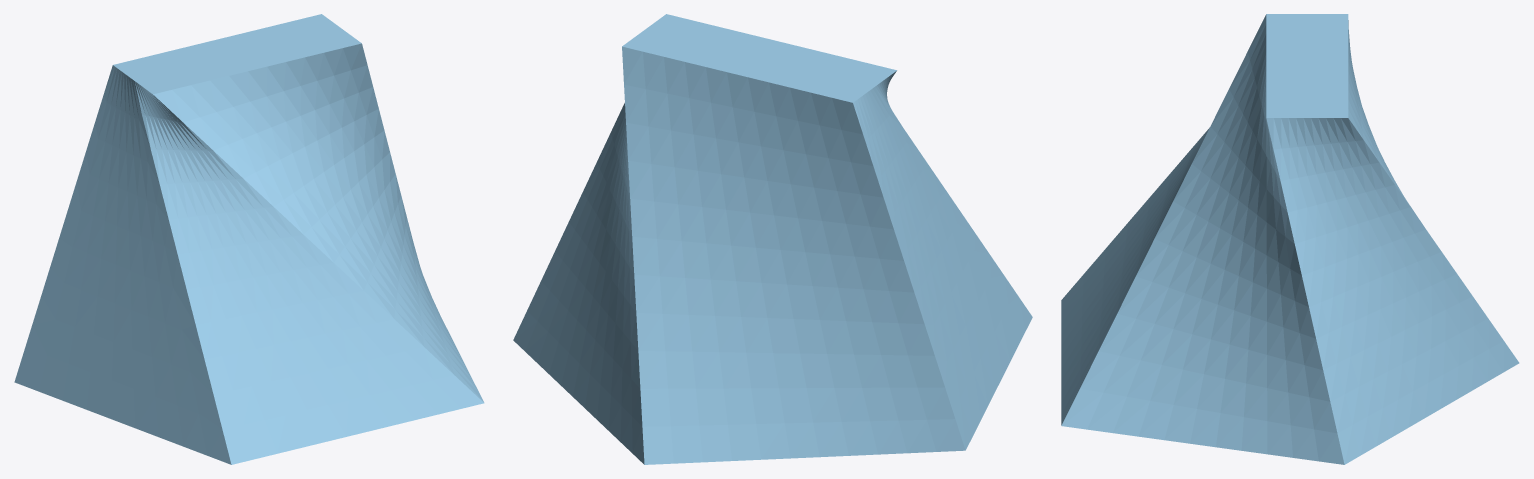
The model's file is NonSymTest.dae.
3 renders of one model, left to right at view 1: azimuth 30°, elevation 25°; view 2: azimuth 150°, elevation 25°; view 3: azimuth 270°, elevation 25°, orthographic. The views are drawn at different scales.
Visible parts, largest first — view 1: 5c7fe8f7d39c101b6040b5b8; view 2: 5c7fe8f7d39c101b6040b5b8; view 3: 5c7fe8f7d39c101b6040b5b8.
Part boxes in pixels (bbox=[...]): 5c7fe8f7d39c101b6040b5b8: bbox=[14, 14, 484, 464]; 5c7fe8f7d39c101b6040b5b8: bbox=[513, 14, 1032, 464]; 5c7fe8f7d39c101b6040b5b8: bbox=[1061, 14, 1519, 464].
Size of the model in its own units: 0.1493 by 0.142 by 0.1016.
